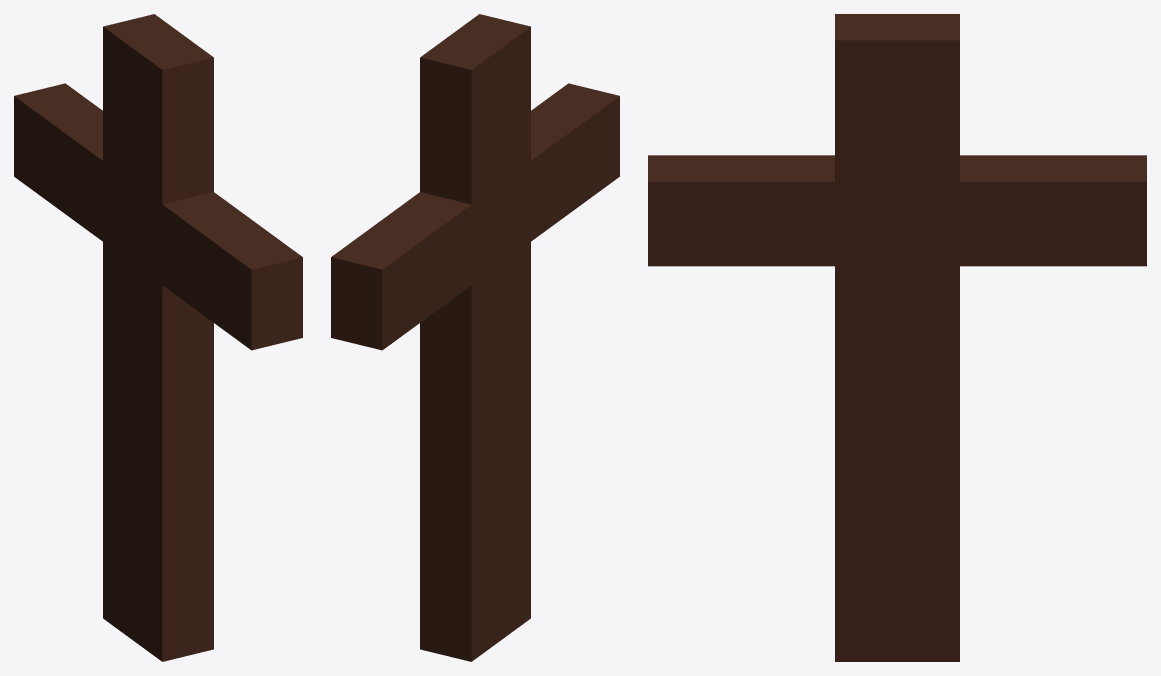
The model's file is Crucifixo.fbx.
The picture shows the model from 3 angles, left to right: view 1: azimuth 30°, elevation 25°; view 2: azimuth 150°, elevation 25°; view 3: azimuth 270°, elevation 25°; orthographic projection. The views are drawn at different scales.
Parts seen in each view (by area): view 1: Cube; view 2: Cube; view 3: Cube.
Boxes of the visible parts, x1,y1,x2,y2 form: Cube: [14, 14, 302, 661]; Cube: [331, 14, 619, 661]; Cube: [648, 14, 1146, 661].
Size of the model in its own units: 200 by 2200 by 1600.
